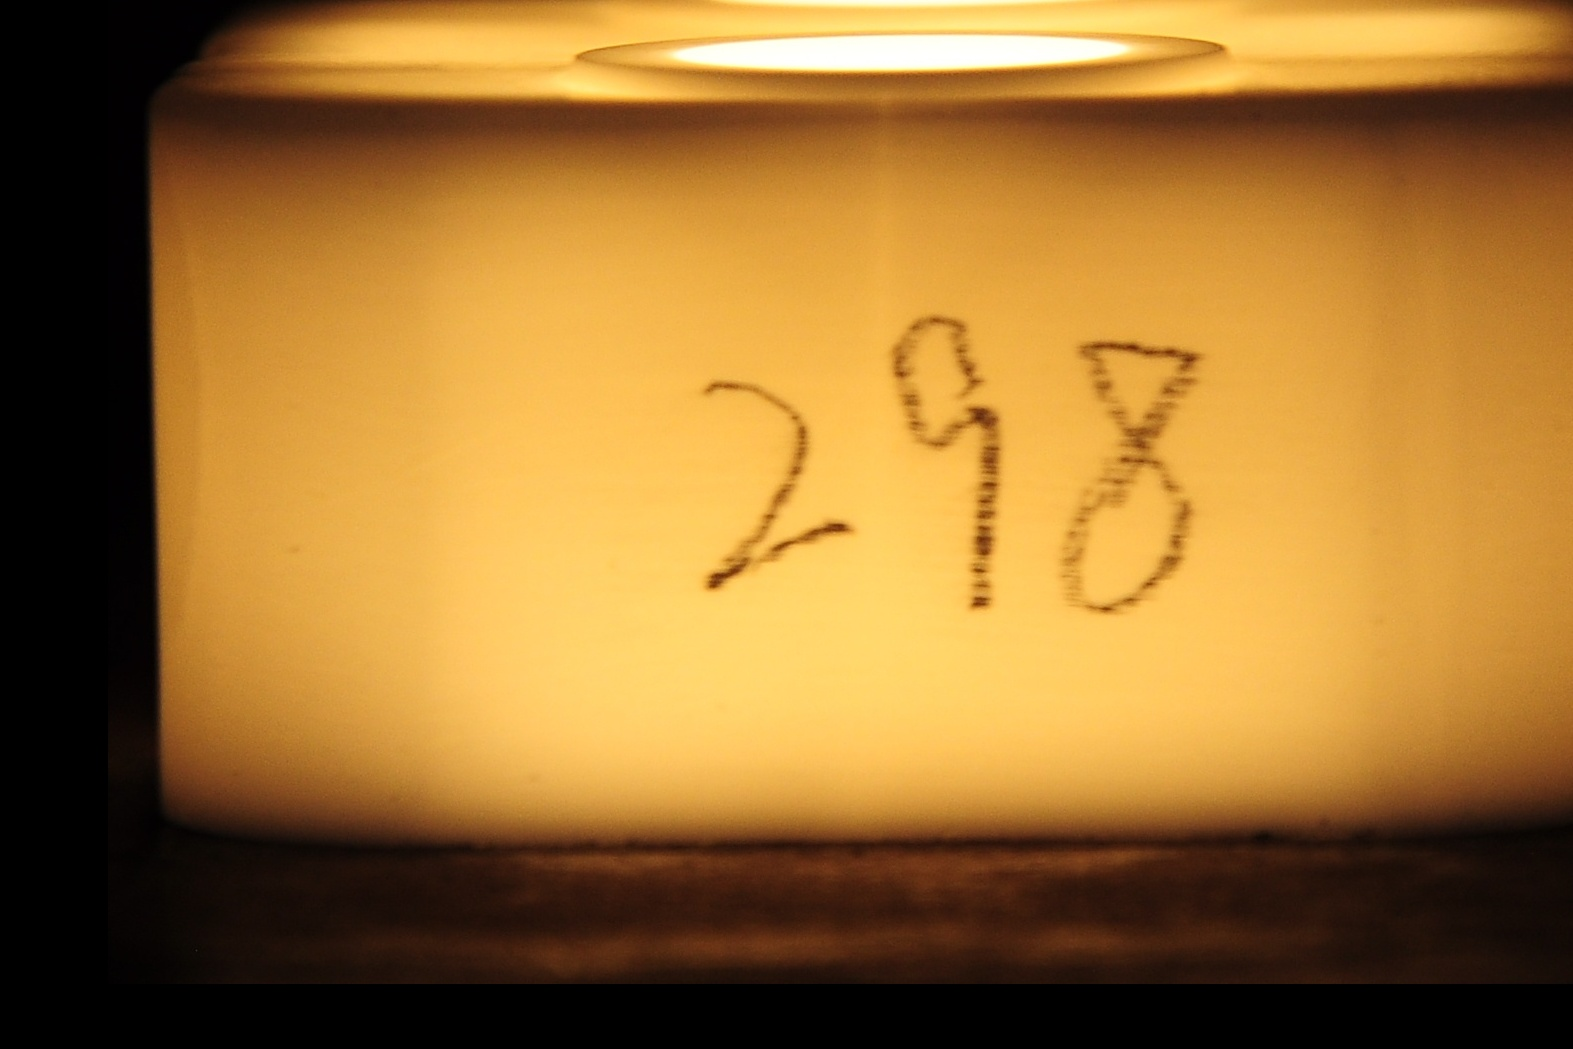flaw: (150, 151, 229, 700)
